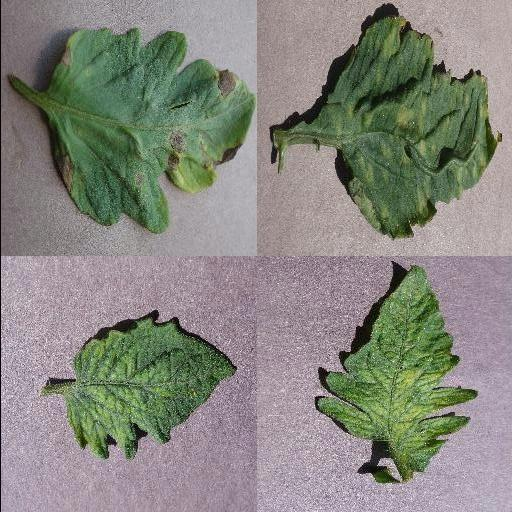Early Blight: (45, 27, 255, 235)
Leaf Mold: (325, 18, 501, 240)
Mosaic Virus: (314, 263, 480, 473), (65, 317, 237, 463)
